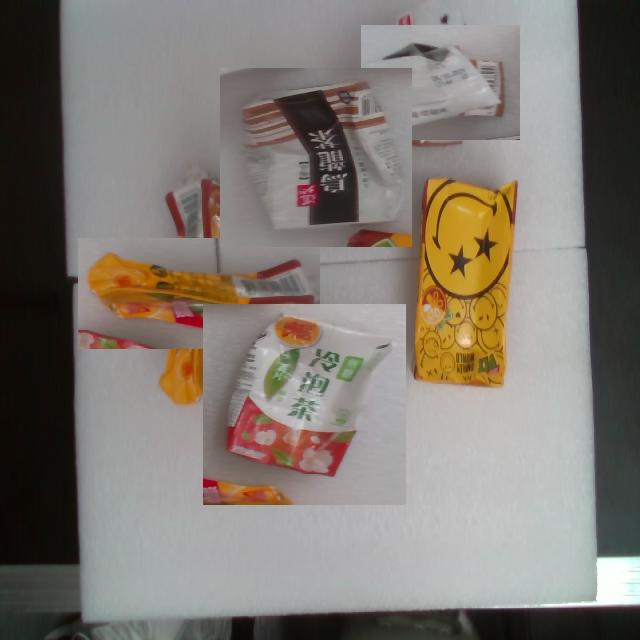juicebox: (202, 283, 406, 506), (221, 67, 413, 254), (399, 159, 530, 402), (75, 238, 321, 349), (352, 21, 520, 140)
